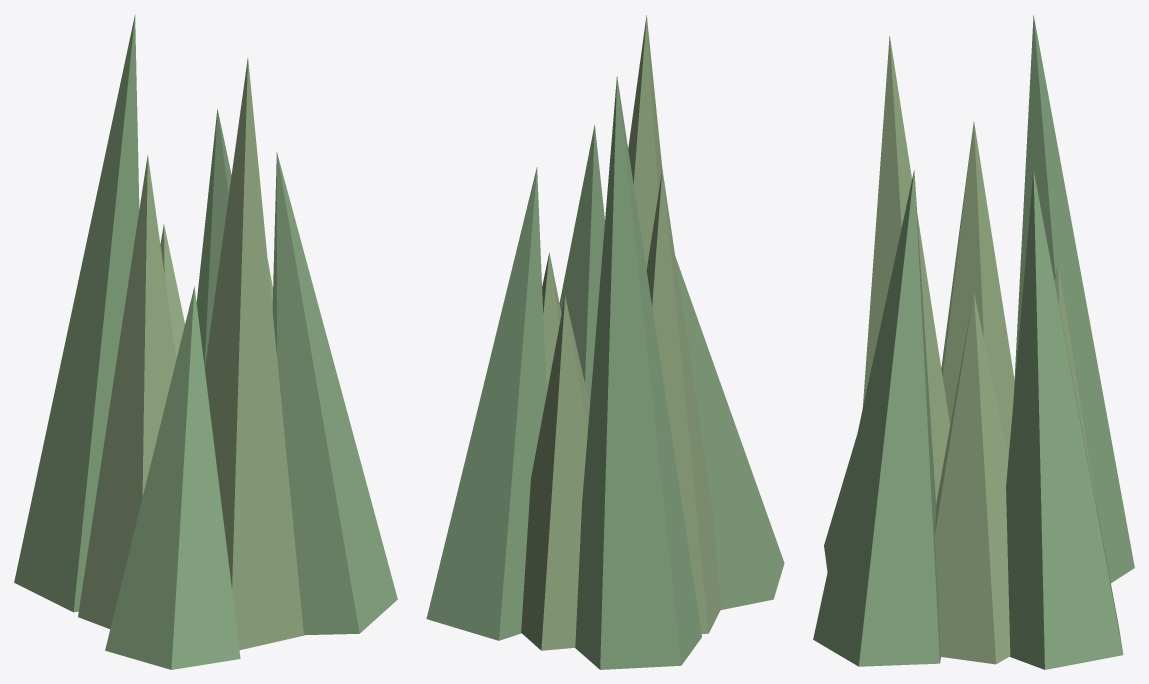
File: grass_tuft.glb
3 renders of one model, left to right at view 1: azimuth 30°, elevation 25°; view 2: azimuth 150°, elevation 25°; view 3: azimuth 270°, elevation 25°, orthographic. The views are drawn at different scales.
Parts seen in each view (by area): view 1: Blade_2, Blade_1, Blade_5, Blade_3, Blade_4, Blade_7, Blade_6; view 2: Blade_5, Blade_7, Blade_6, Blade_3, Blade_4, Blade_1, Blade_2, Blade_0; view 3: Blade_1, Blade_7, Blade_0, Blade_5, Blade_4, Blade_2, Blade_6, Blade_3.
Part boxes in pixels (x1,y1,x2,y2): Blade_2: [205, 58, 303, 650]; Blade_1: [272, 152, 397, 635]; Blade_5: [14, 14, 139, 612]; Blade_3: [105, 286, 240, 669]; Blade_4: [78, 154, 176, 628]; Blade_7: [196, 108, 231, 368]; Blade_6: [160, 224, 184, 358]; Blade_5: [575, 76, 701, 669]; Blade_7: [426, 167, 546, 640]; Blade_6: [521, 296, 589, 650]; Blade_3: [675, 256, 784, 609]; Blade_4: [646, 169, 721, 633]; Blade_1: [559, 124, 604, 404]; Blade_2: [628, 15, 662, 269]; Blade_0: [542, 252, 561, 393]; Blade_1: [813, 170, 940, 666]; Blade_7: [1006, 170, 1123, 669]; Blade_0: [934, 293, 1010, 664]; Blade_5: [1013, 15, 1134, 582]; Blade_4: [941, 121, 1014, 457]; Blade_2: [862, 35, 949, 503]; Blade_6: [1054, 264, 1096, 507]; Blade_3: [824, 436, 856, 571].
Size of the model in its own units: 0.3763 by 0.7611 by 0.3817.
